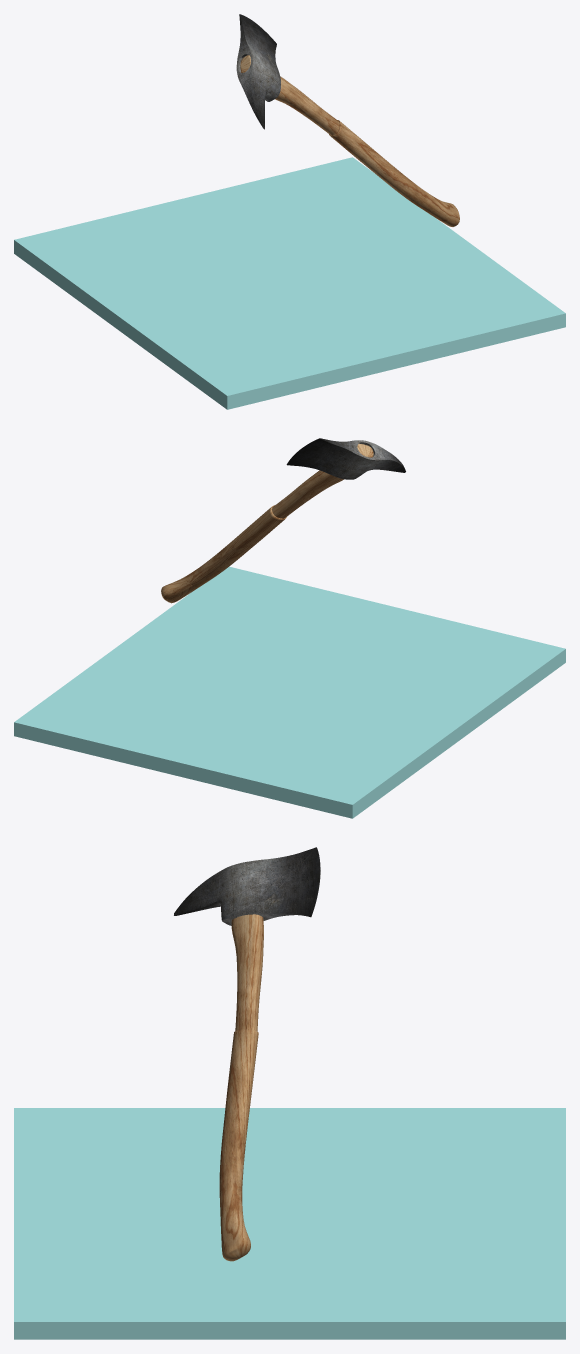
File: hacha.DAE
3 views of the same model, one above another, from view 1: azimuth 30°, elevation 25°; view 2: azimuth 150°, elevation 25°; view 3: azimuth 270°, elevation 25° (orthographic). The views are drawn at different scales.
Visible parts, largest first — view 1: Box001, Plane022, Object1111; view 2: Box001, Plane022, Object1111; view 3: Box001, Plane022, Object1111.
Boxes of the visible parts, bbox=[...] form: Box001: bbox=[14, 157, 565, 409]; Plane022: bbox=[240, 55, 459, 226]; Object1111: bbox=[236, 14, 280, 129]; Box001: bbox=[14, 566, 565, 818]; Plane022: bbox=[161, 443, 373, 603]; Object1111: bbox=[286, 438, 405, 479]; Box001: bbox=[14, 1108, 565, 1339]; Plane022: bbox=[219, 914, 263, 1261]; Object1111: bbox=[174, 847, 320, 925].
Size of the model in its own units: 124 by 136 by 97.72.
Materials: 3 (2 with a texture image).
